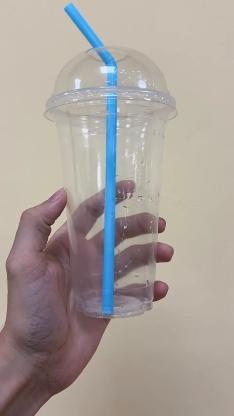Plastic Cup: (45, 44, 180, 320)
